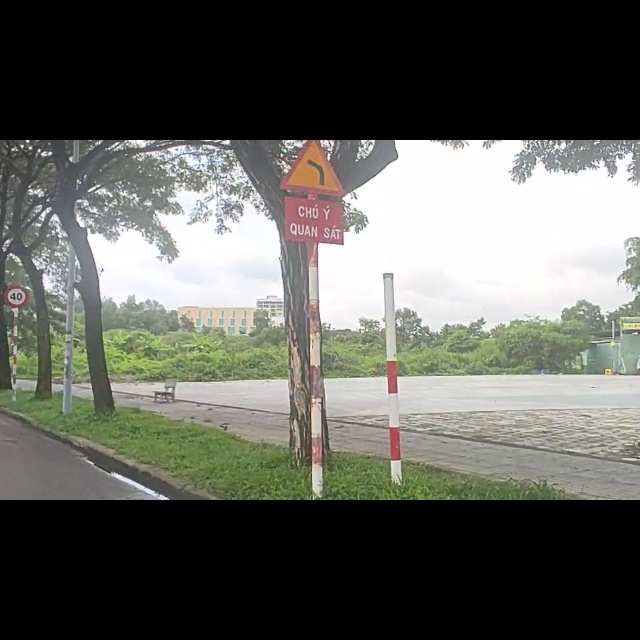bien_nguy_hiem: (273, 1, 353, 100), (5, 258, 31, 295)
